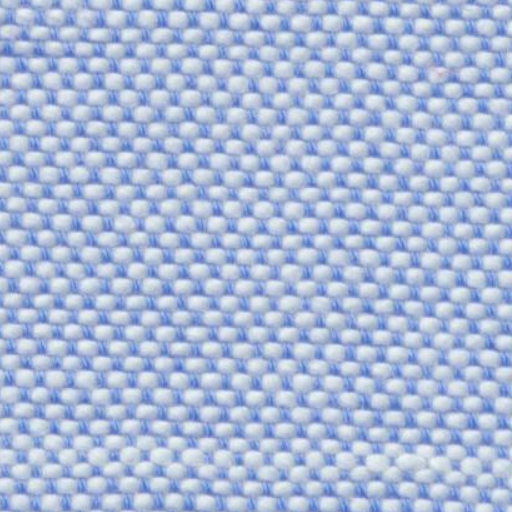TuoSha: (14, 407, 496, 498)
